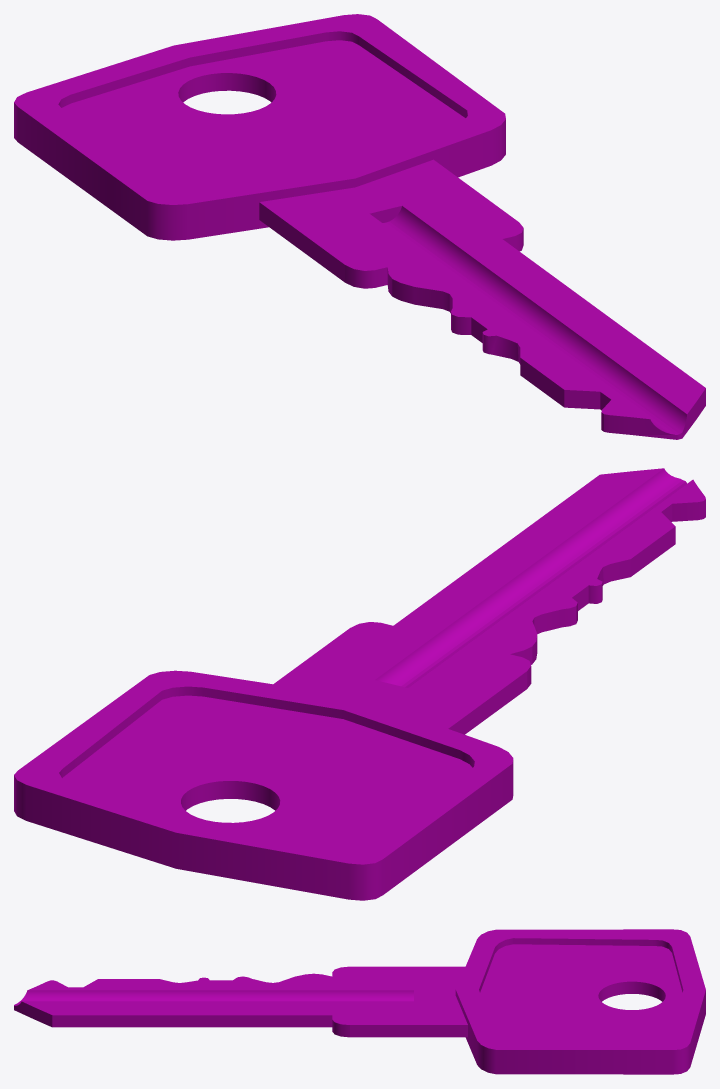
The model's file is key2_rose.fbx.
3 views of the same model, one above another, from view 1: azimuth 30°, elevation 25°; view 2: azimuth 150°, elevation 25°; view 3: azimuth 270°, elevation 25° (orthographic). The views are drawn at different scales.
Visible parts, largest first — view 1: key2; view 2: key2; view 3: key2.
Part boxes in pixels (box(x1,y1,x2,y2)): key2: box(14, 14, 705, 439); key2: box(14, 468, 705, 900); key2: box(14, 929, 705, 1074).
Size of the model in its own units: 37.25 by 3.52 by 90.26.
